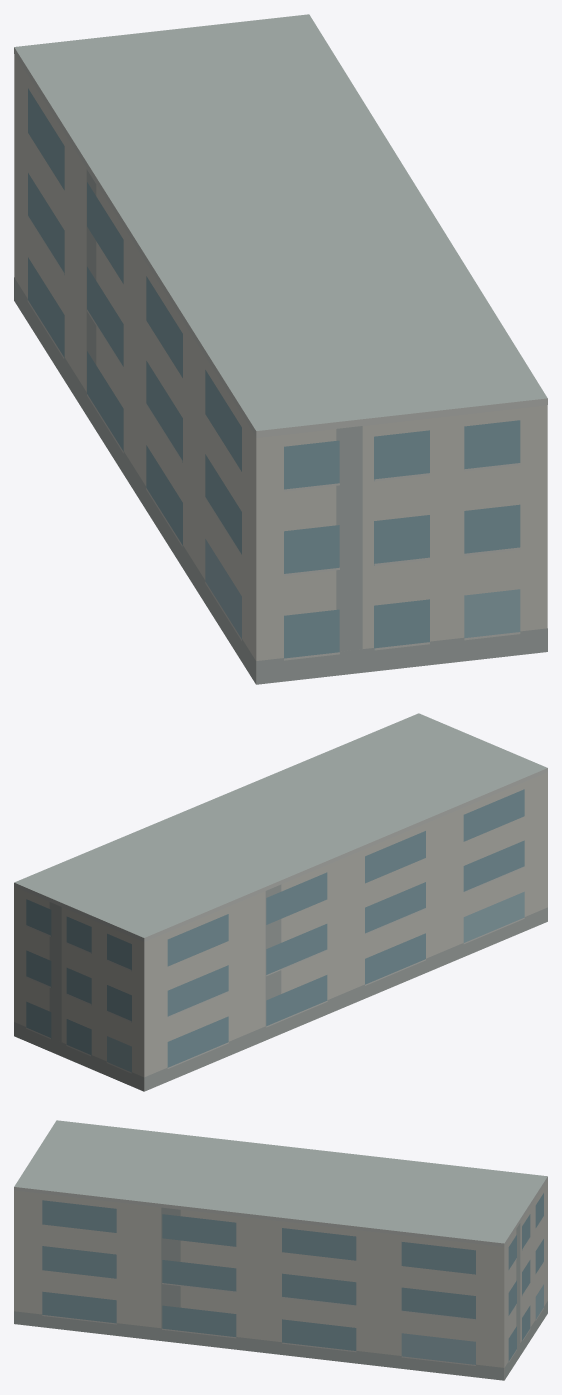
The model's file is survey-upis-32585827.glb.
The picture shows the model from 3 angles, top to bottom: view 1: azimuth 30°, elevation 25°; view 2: azimuth 150°, elevation 25°; view 3: azimuth 270°, elevation 25°; orthographic projection. The views are drawn at different scales.
Parts seen in each view (by area): view 1: survey-upis-32585827.tmp; view 2: survey-upis-32585827.tmp; view 3: survey-upis-32585827.tmp.
Boxes of the visible parts, left/top/right/bottom form: survey-upis-32585827.tmp: left=14, top=14, right=547, bottom=684; survey-upis-32585827.tmp: left=14, top=713, right=547, bottom=1091; survey-upis-32585827.tmp: left=14, top=1120, right=547, bottom=1380.
Bounding box in the file's own units: 17.65 × 9.15 × 32.29.
